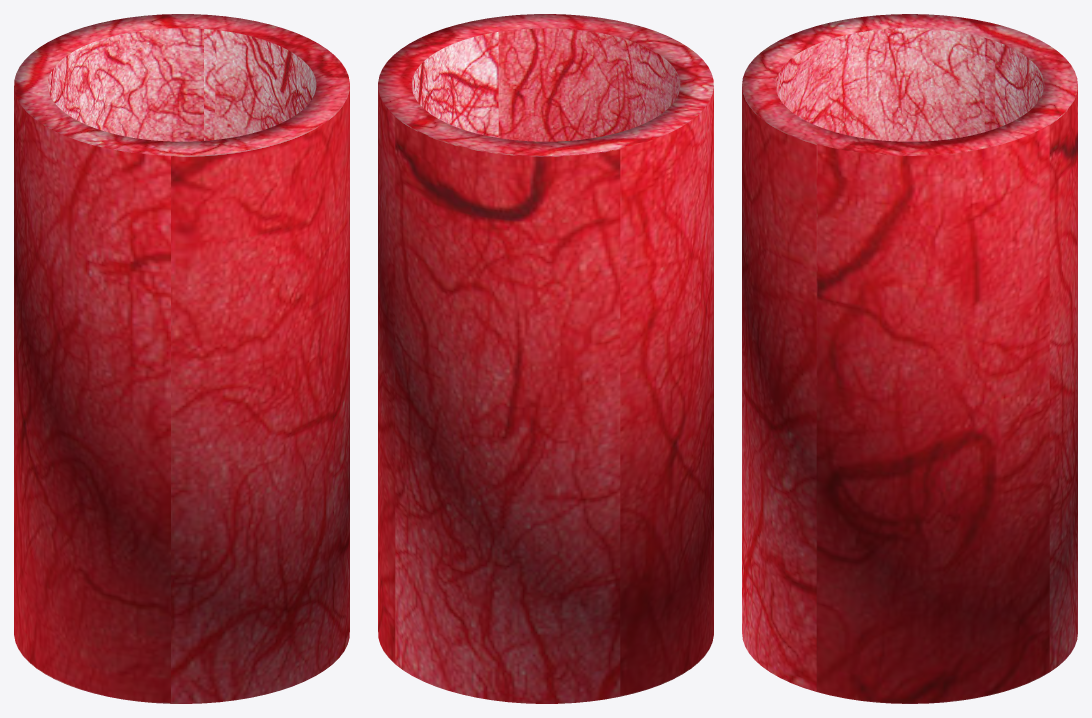
Rendered from bloodpipe.fbx.
3 renders of one model, left to right at view 1: azimuth 30°, elevation 25°; view 2: azimuth 150°, elevation 25°; view 3: azimuth 270°, elevation 25°, orthographic.
Parts seen in each view (by area): view 1: obj_0; view 2: obj_0; view 3: obj_0.
Boxes of the visible parts, <box> form: obj_0: <box>14,14,349,703</box>; obj_0: <box>378,14,713,703</box>; obj_0: <box>742,14,1077,703</box>.
Bounding box in the file's own units: 2000 × 3600 × 2000.
